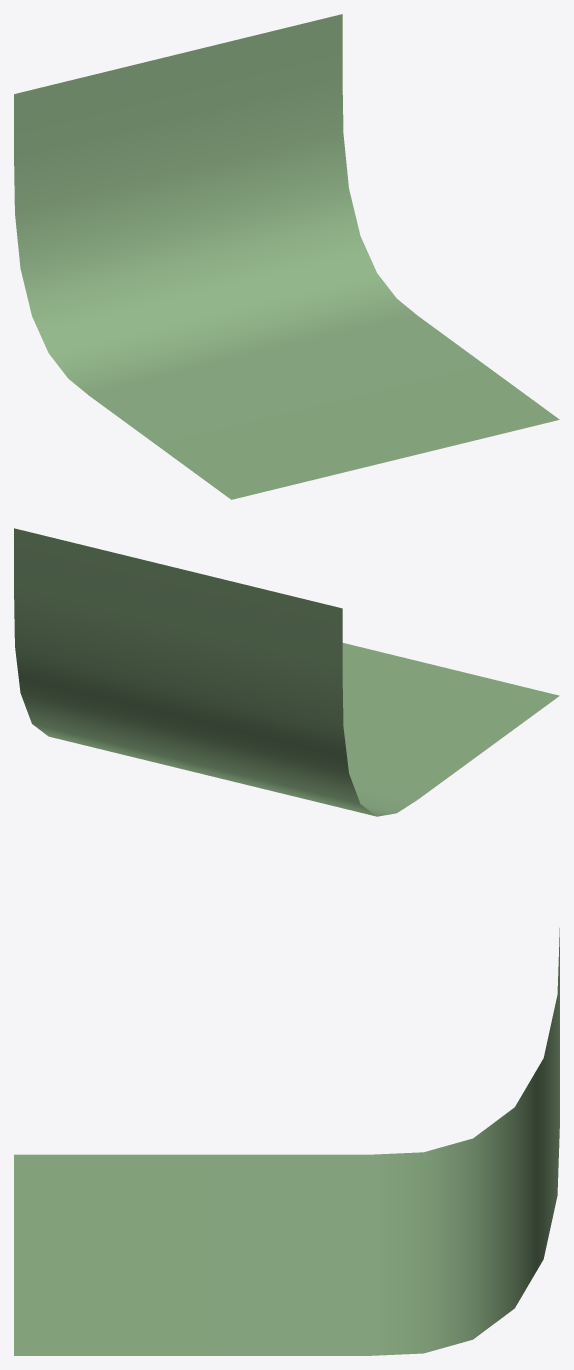
The model's file is Cloud.fbx.
3 views of the same model, one above another, from view 1: azimuth 30°, elevation 25°; view 2: azimuth 150°, elevation 25°; view 3: azimuth 270°, elevation 25° (orthographic). The views are drawn at different scales.
Parts seen in each view (by area): view 1: pPlane3; view 2: pPlane3; view 3: pPlane3.
Boxes of the visible parts, <box> form: pPlane3: <box>14,14,559,499</box>; pPlane3: <box>14,528,559,816</box>; pPlane3: <box>14,928,559,1355</box>.
Bounding box in the file's own units: 7.29 × 5.23 × 8.36.
